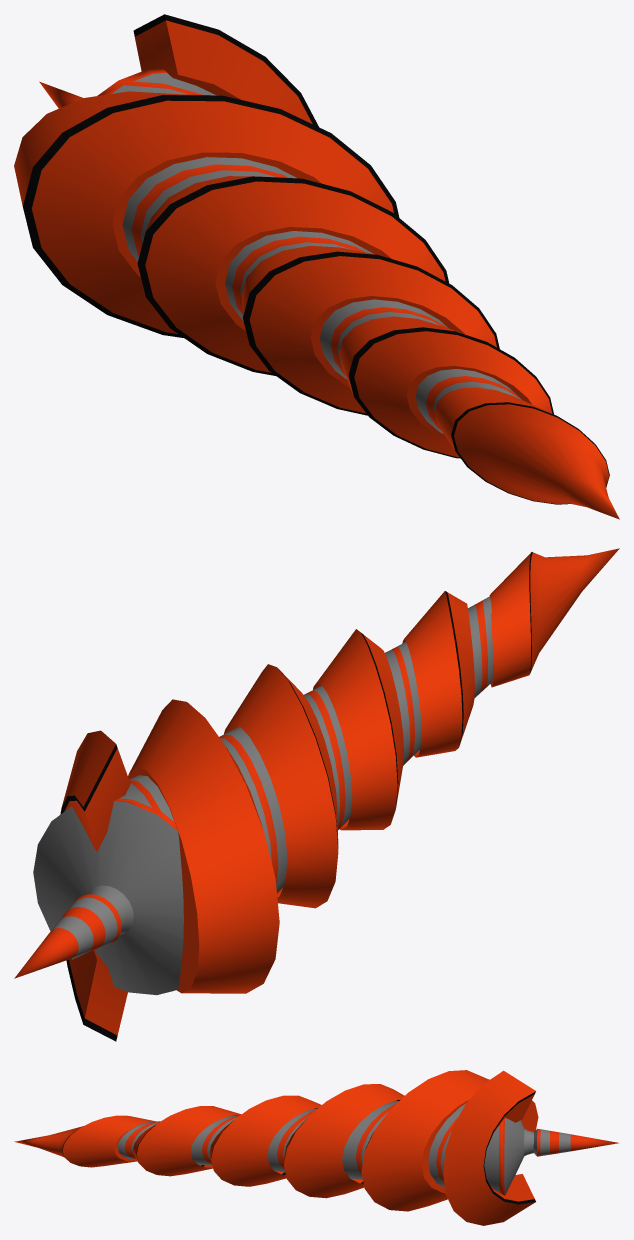
File: boss misailu 1.fbx
3 views of the same model, one above another, from view 1: azimuth 30°, elevation 25°; view 2: azimuth 150°, elevation 25°; view 3: azimuth 270°, elevation 25° (orthographic). The views are drawn at different scales.
Parts seen in each view (by area): view 1: pCone1; view 2: pCone1; view 3: pCone1.
Boxes of the visible parts, <box> form: pCone1: <box>14,14,619,519</box>; pCone1: <box>14,548,619,1041</box>; pCone1: <box>14,1070,618,1225</box>.
Bounding box in the file's own units: 67.52 × 73.63 × 267.
